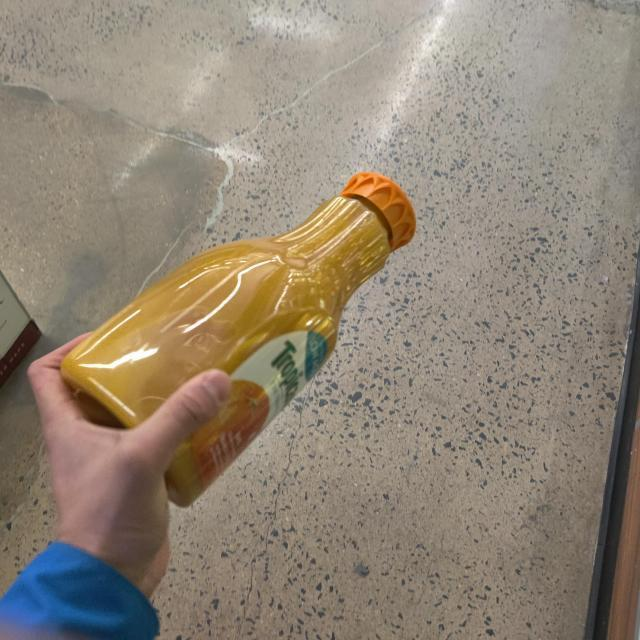Juice: (55, 173, 417, 502)
